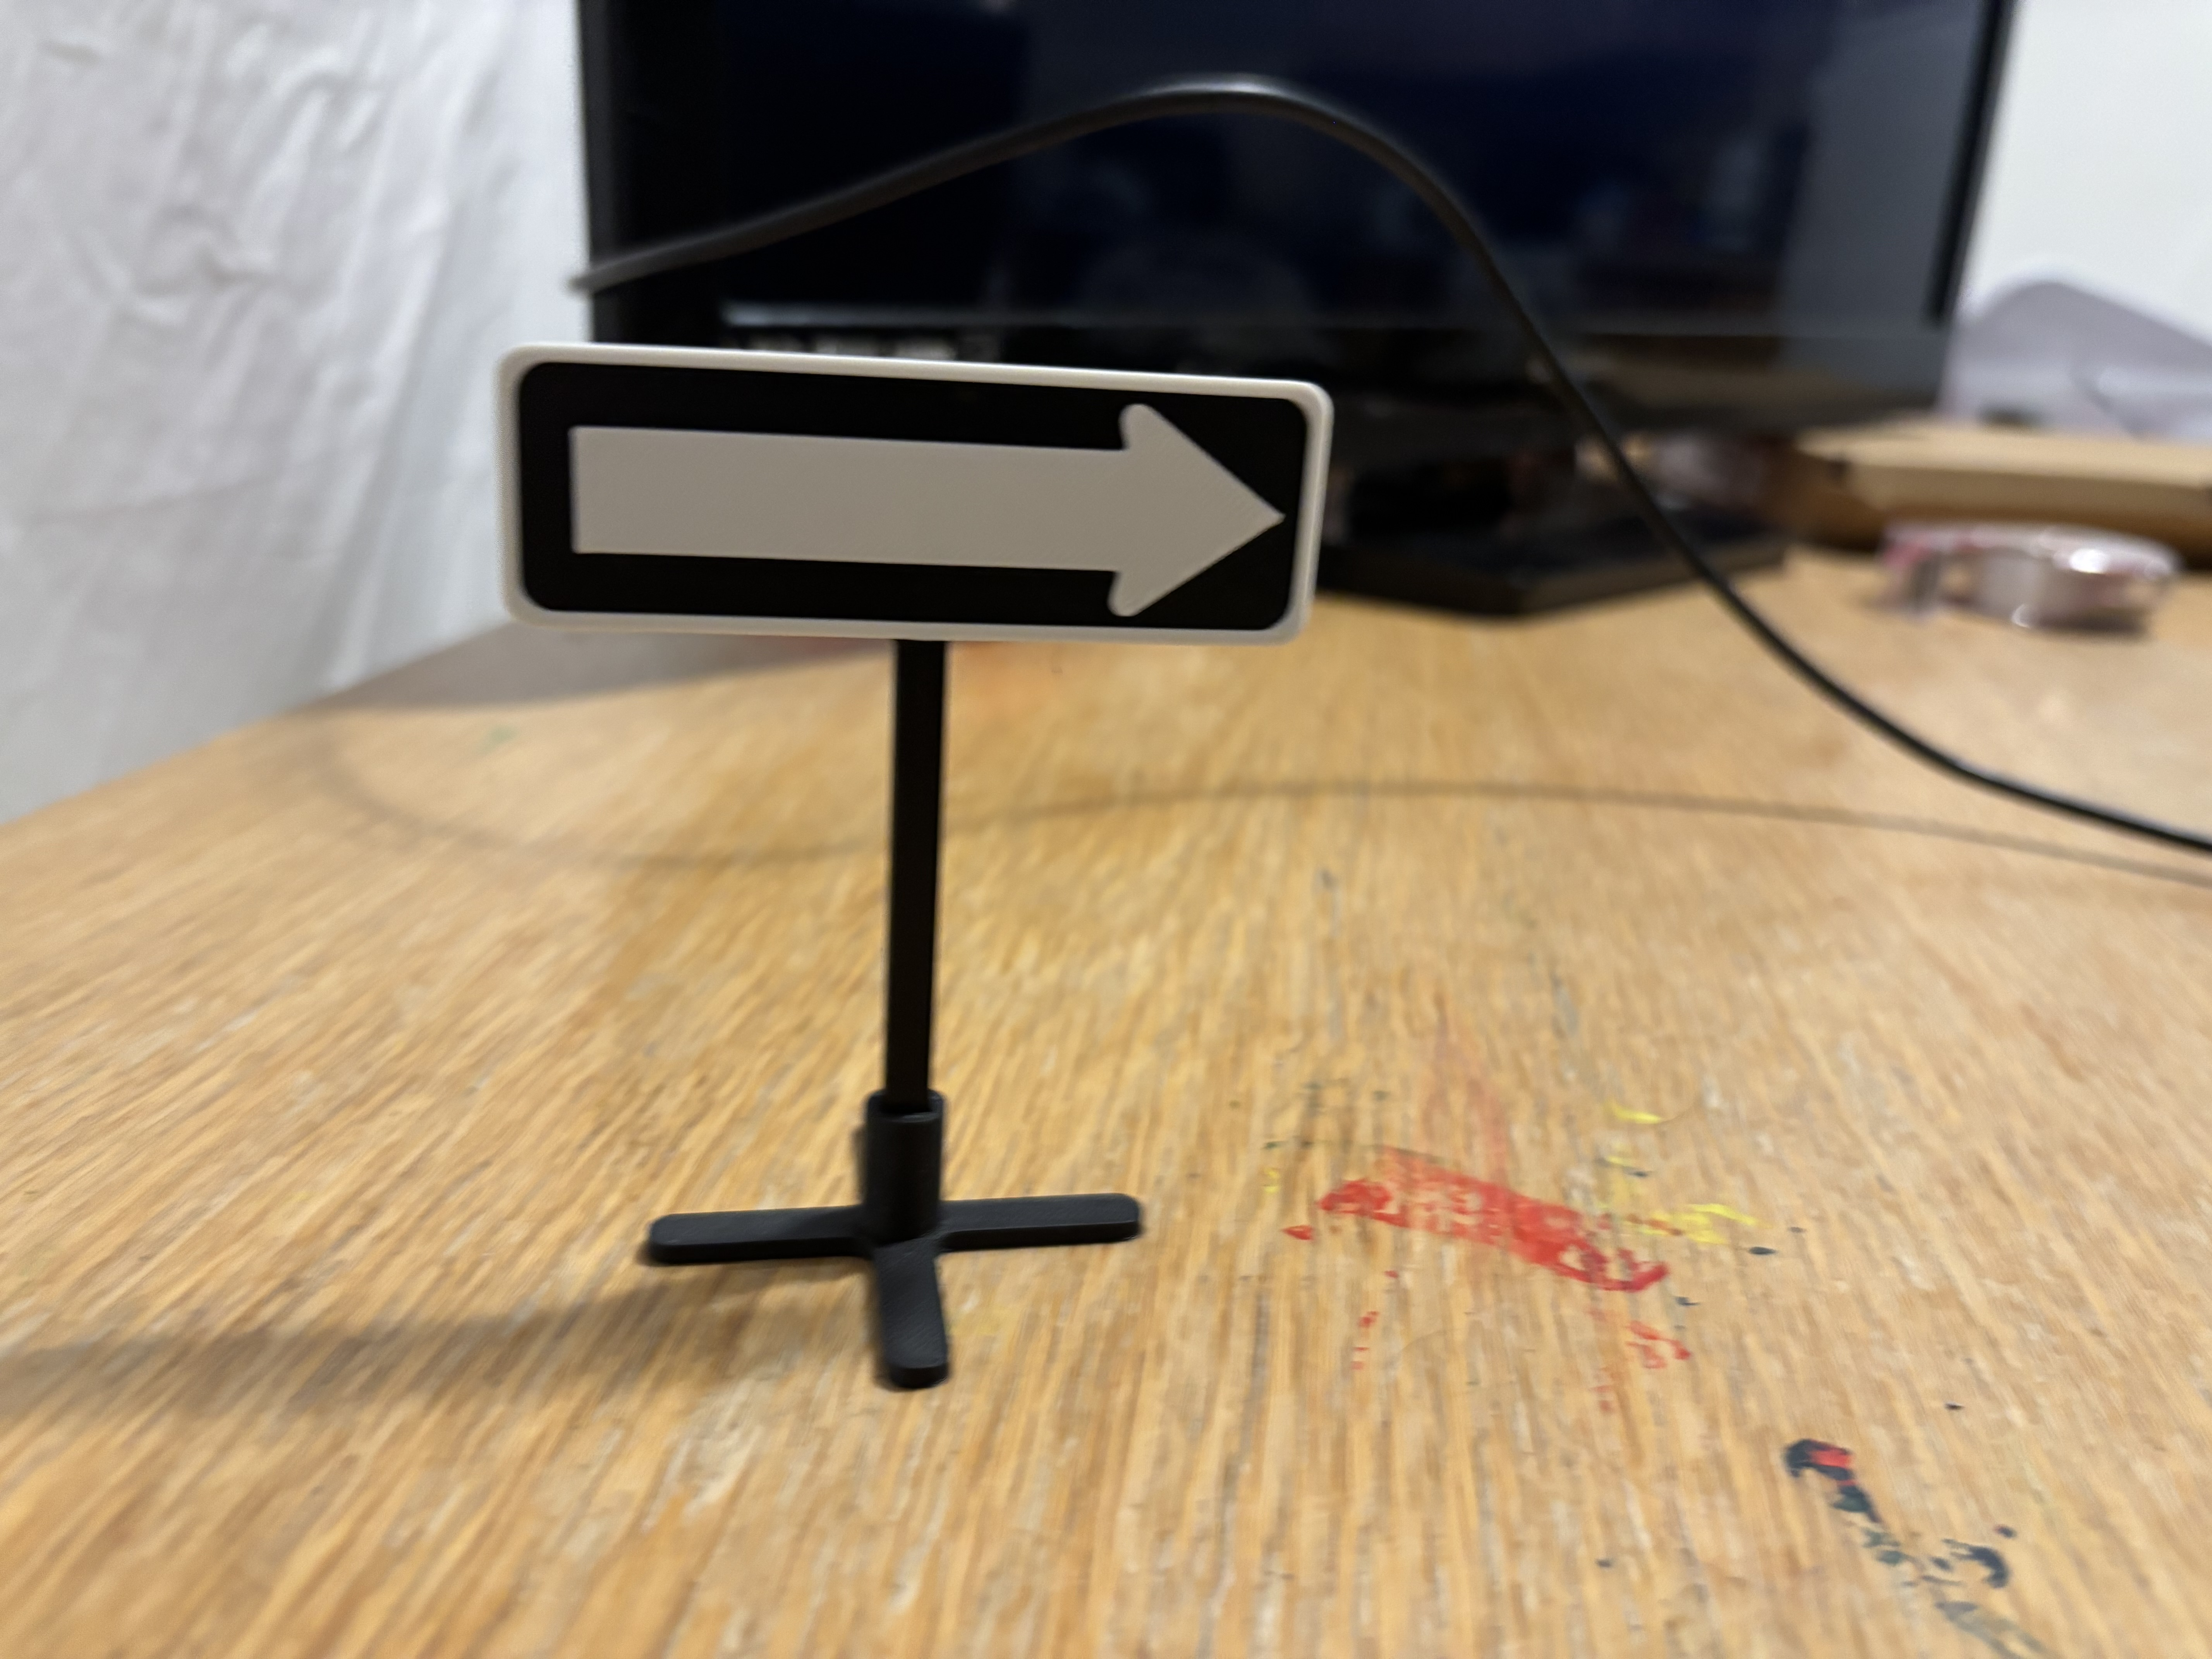sign_oneway_right: (451, 303, 1303, 695)
